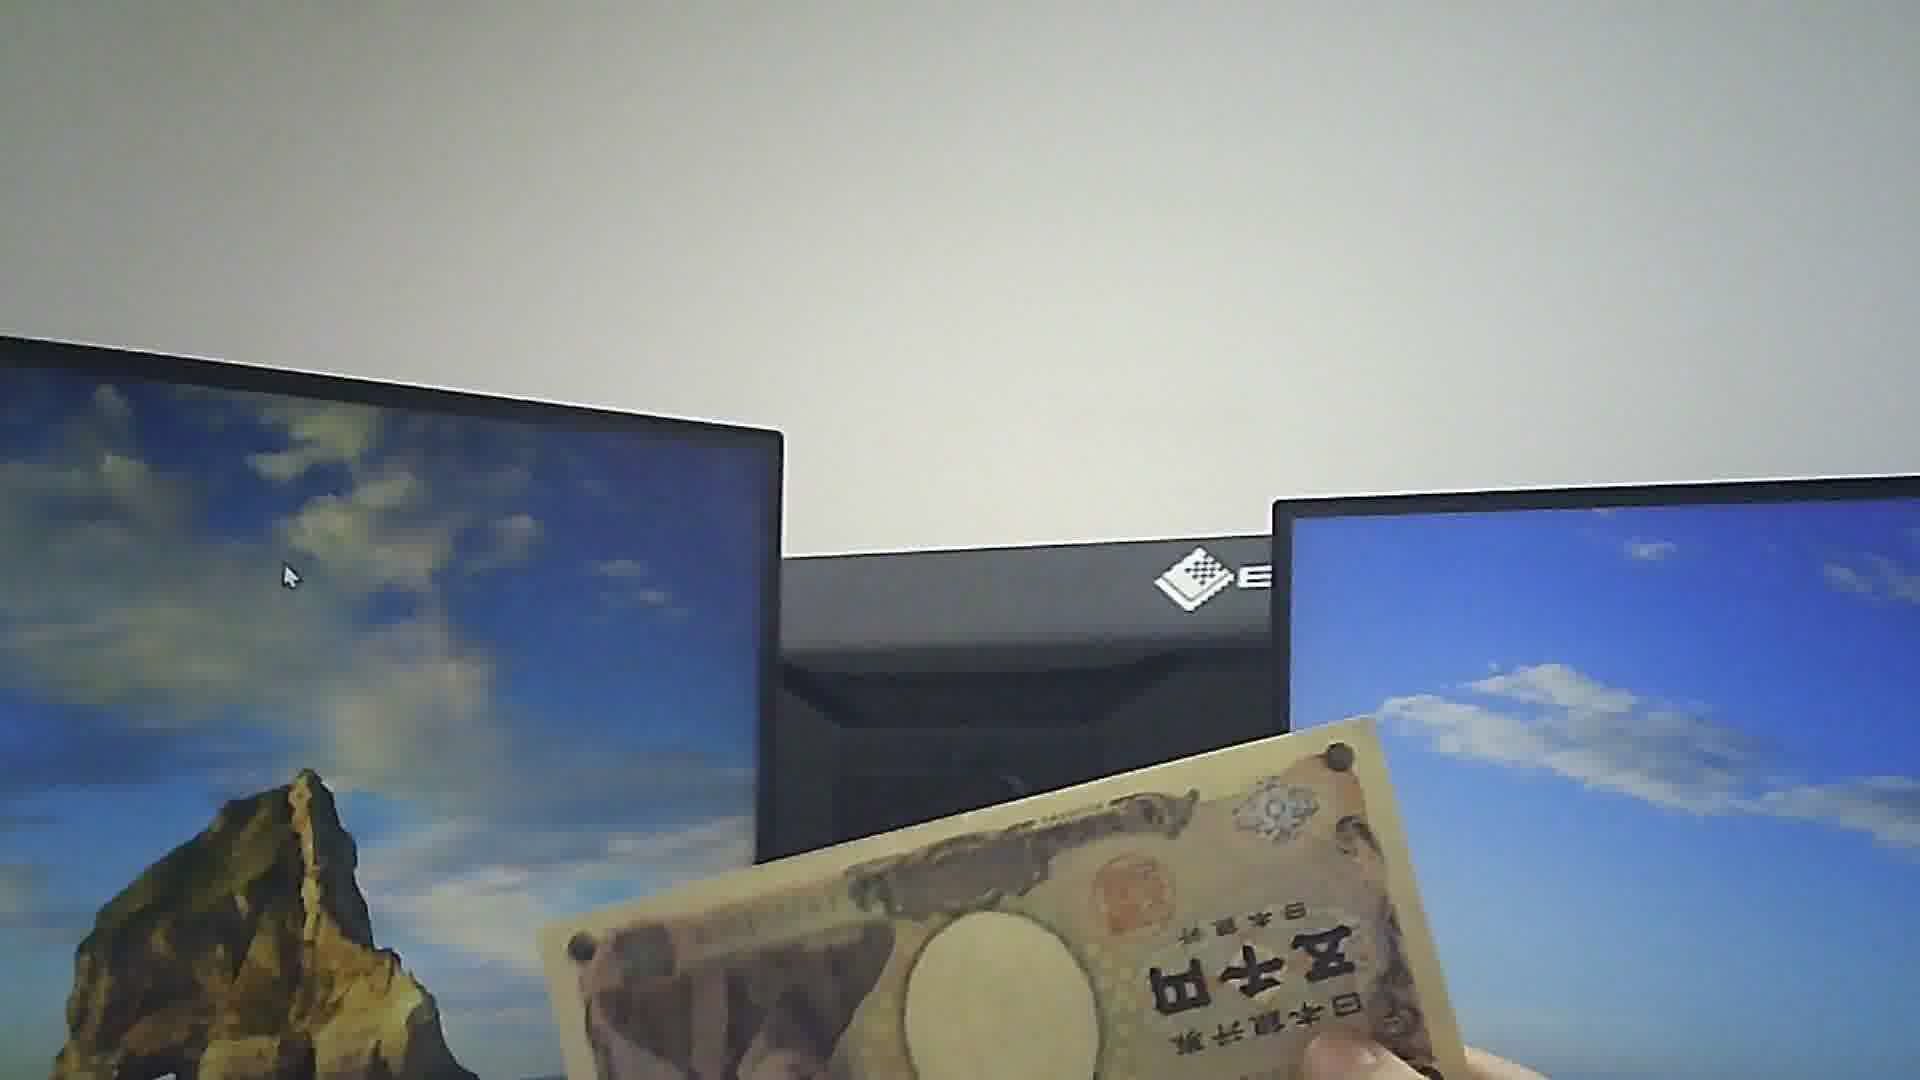5,000 Yen: (506, 731, 1415, 1079)
